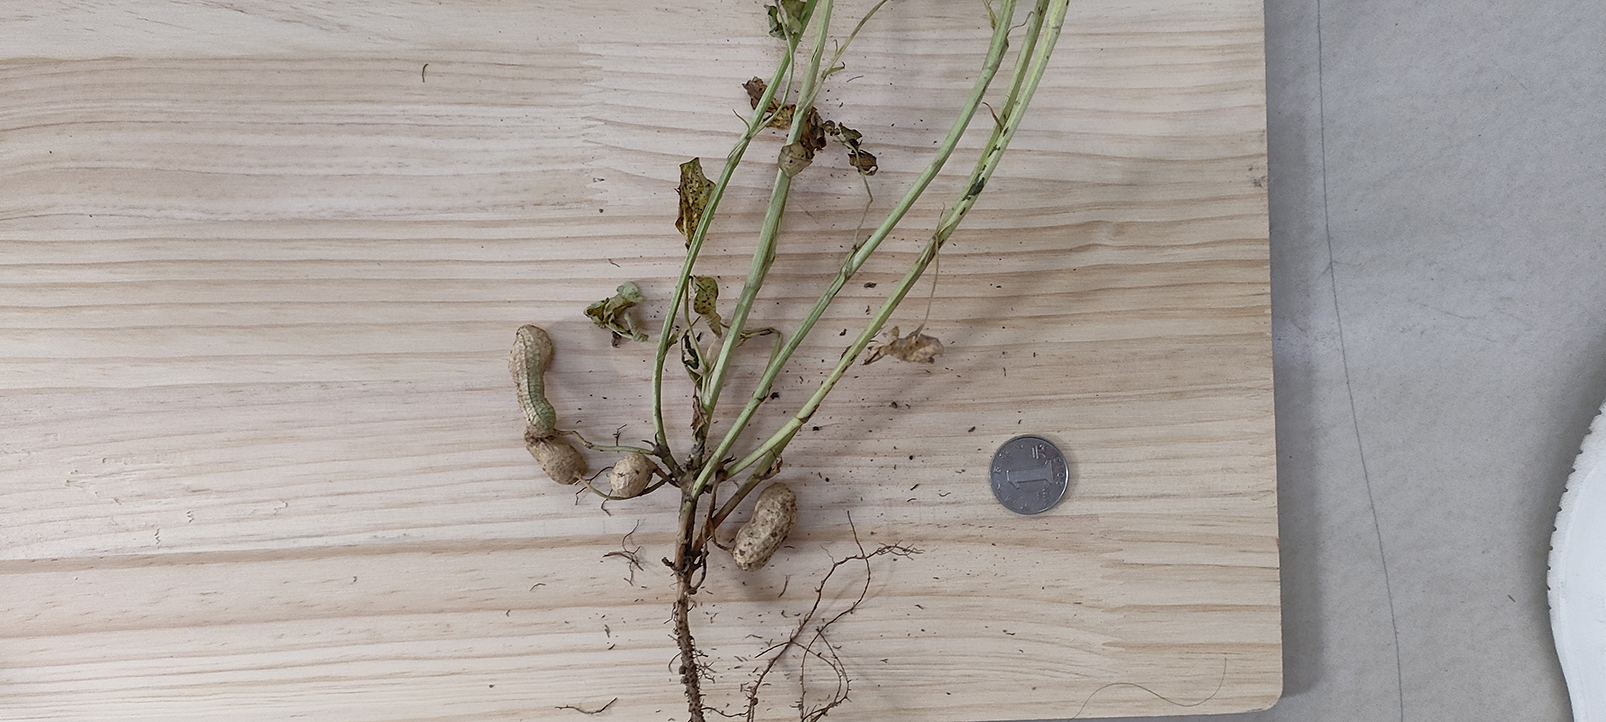h: (731, 480, 794, 568), (509, 323, 557, 436), (523, 433, 585, 485), (607, 445, 651, 498)
